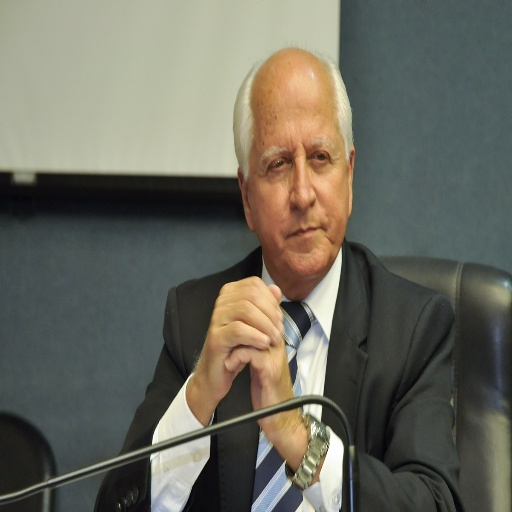hand: (224, 332, 297, 443)
